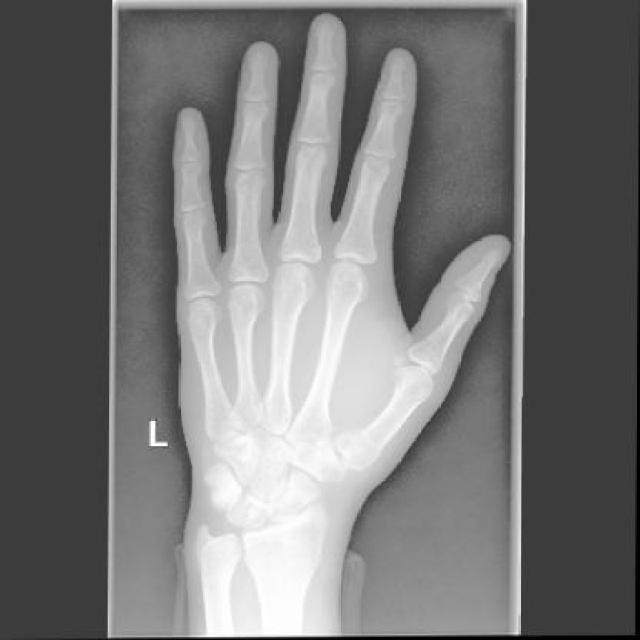Fracture: (332, 425, 376, 475)
